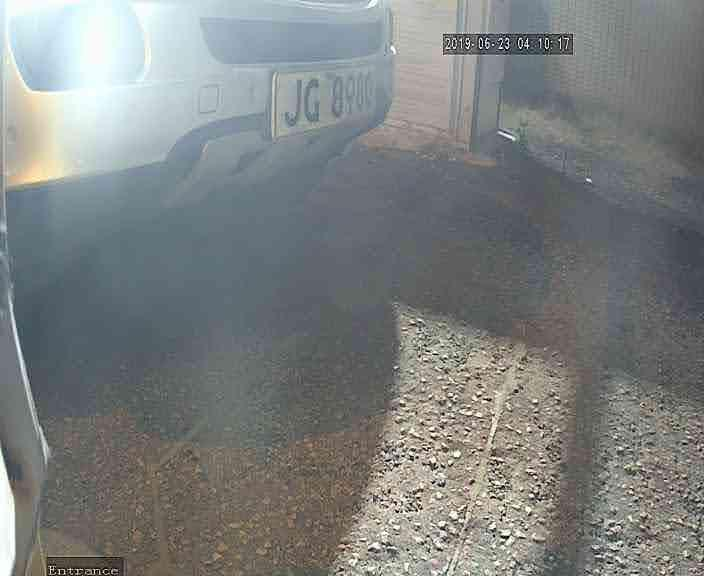privatecar: (2, 2, 471, 310)
